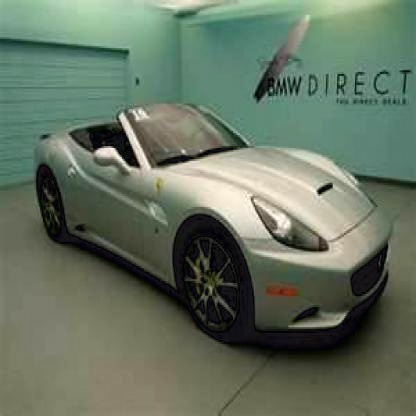Vehicle: (33, 102, 395, 348)
